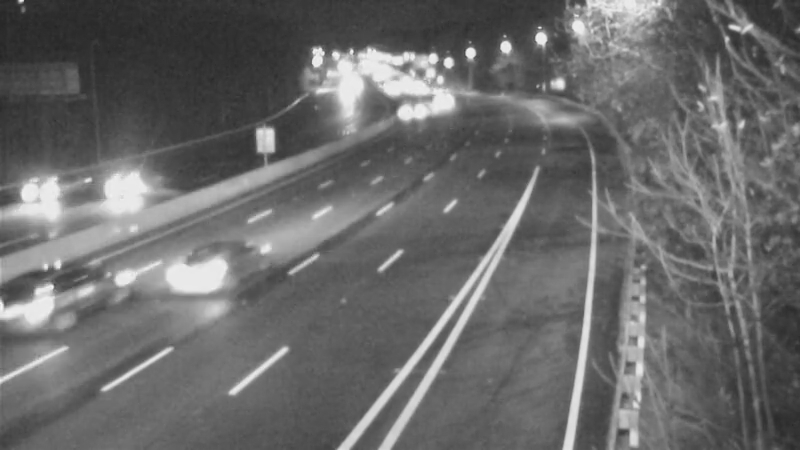vehicle: (1, 246, 97, 356), (153, 231, 233, 311), (4, 153, 84, 233), (73, 152, 153, 232), (419, 79, 469, 129), (383, 81, 433, 131)
